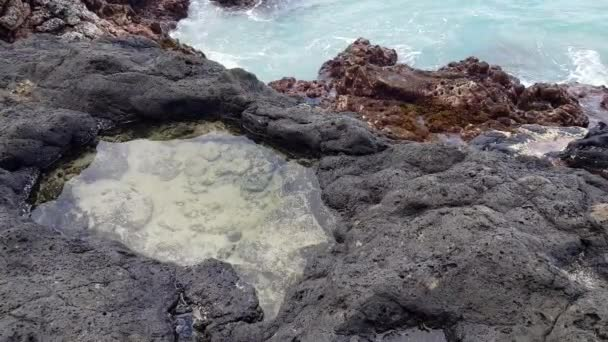volcanic_rock: (318, 157, 605, 342), (19, 253, 246, 342), (49, 44, 243, 117), (224, 102, 383, 157), (1, 102, 103, 168)
